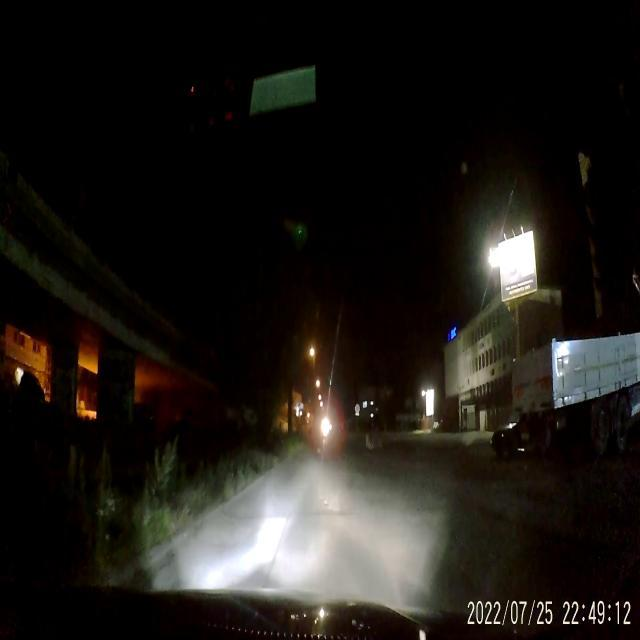Pothole: (315, 500, 360, 522)
